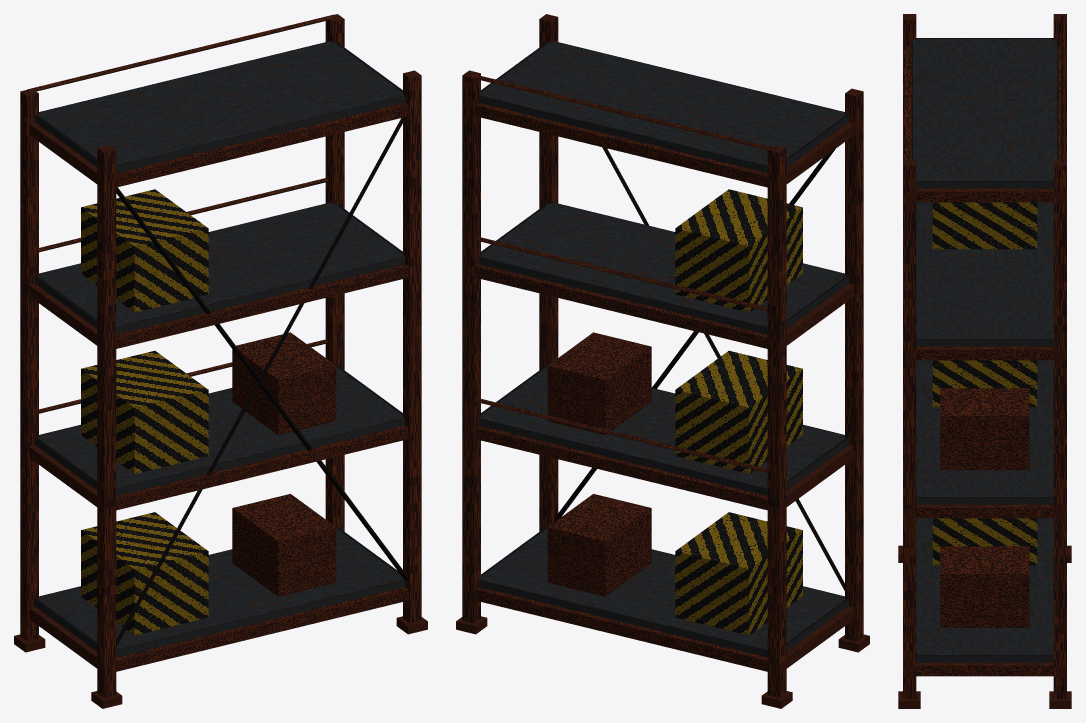
Rendered from heavy_shelving_derelict_decay.glb.
3 views of the same model, side by side, from view 1: azimuth 30°, elevation 25°; view 2: azimuth 150°, elevation 25°; view 3: azimuth 270°, elevation 25° (orthographic). The views are drawn at different scales.
Visible parts, largest first — view 1: heavy_shelving_derelict_decay; view 2: heavy_shelving_derelict_decay; view 3: heavy_shelving_derelict_decay.
Part boxes in pixels (x1,y1,x2,y2): heavy_shelving_derelict_decay: [14, 14, 427, 708]; heavy_shelving_derelict_decay: [456, 14, 869, 708]; heavy_shelving_derelict_decay: [898, 14, 1071, 708].
Bounding box in the file's own units: 1.23 × 2.01 × 0.58.
4 materials, 4 textured.
